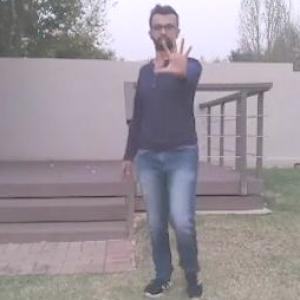follow_hand: (151, 32, 197, 79)
